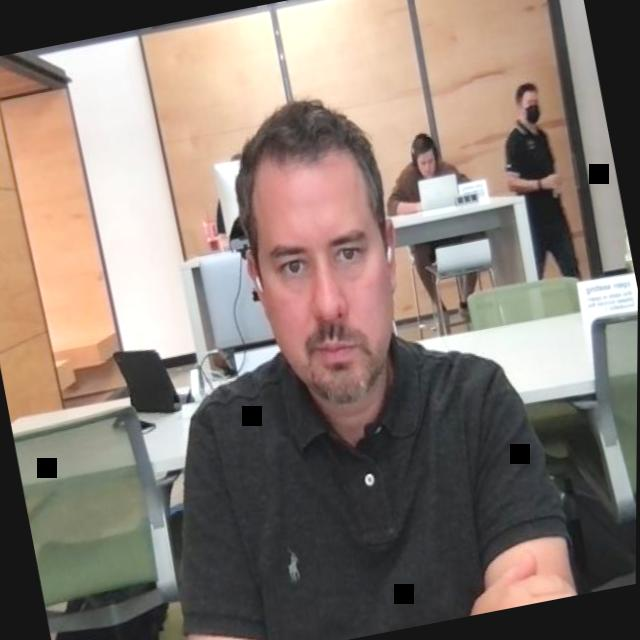Mask: (512, 80, 548, 133)
NO-Mask: (220, 88, 422, 417), (409, 130, 441, 180)
